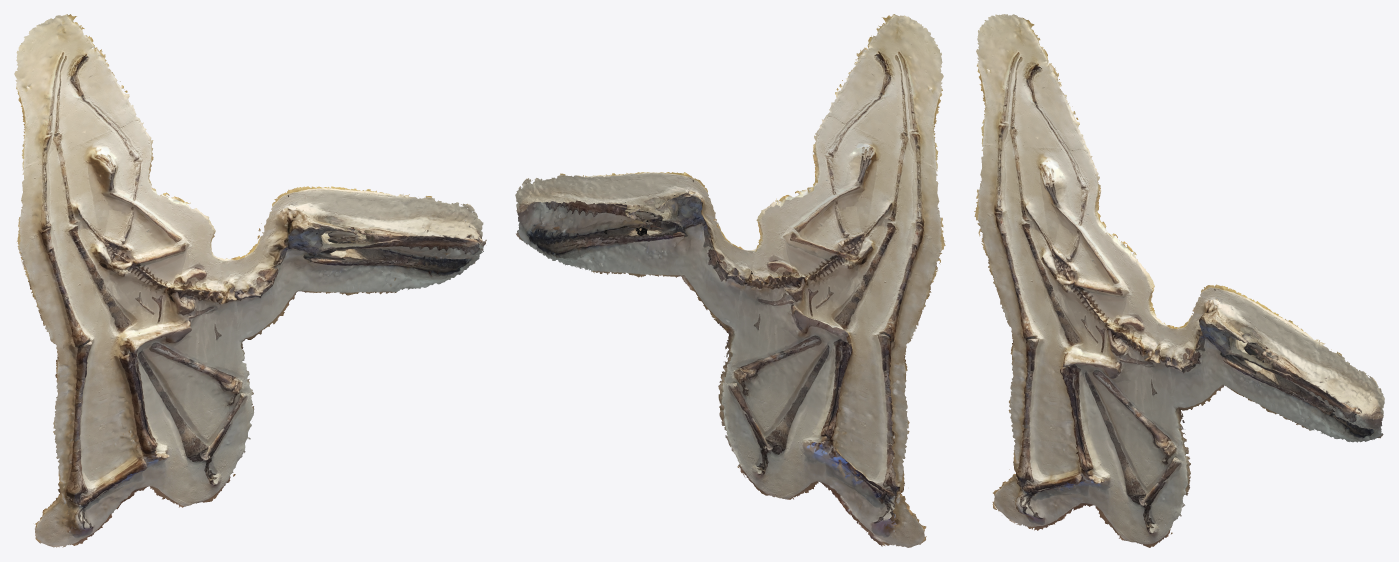
Rendered from anhanguera-skeleton.glb.
3 renders of one model, left to right at view 1: azimuth 30°, elevation 25°; view 2: azimuth 150°, elevation 25°; view 3: azimuth 330°, elevation 25°, orthographic. The views are drawn at different scales.
Parts seen in each view (by area): view 1: Skeleton; view 2: Skeleton; view 3: Skeleton.
Part boxes in pixels (x1,y1,x2,y2): Skeleton: (14,14,486,547); Skeleton: (515,14,945,547); Skeleton: (974,14,1384,547).
Size of the model in its own units: 5.54 by 6.32 by 0.985.
Materials: 2 (2 with a texture image).
